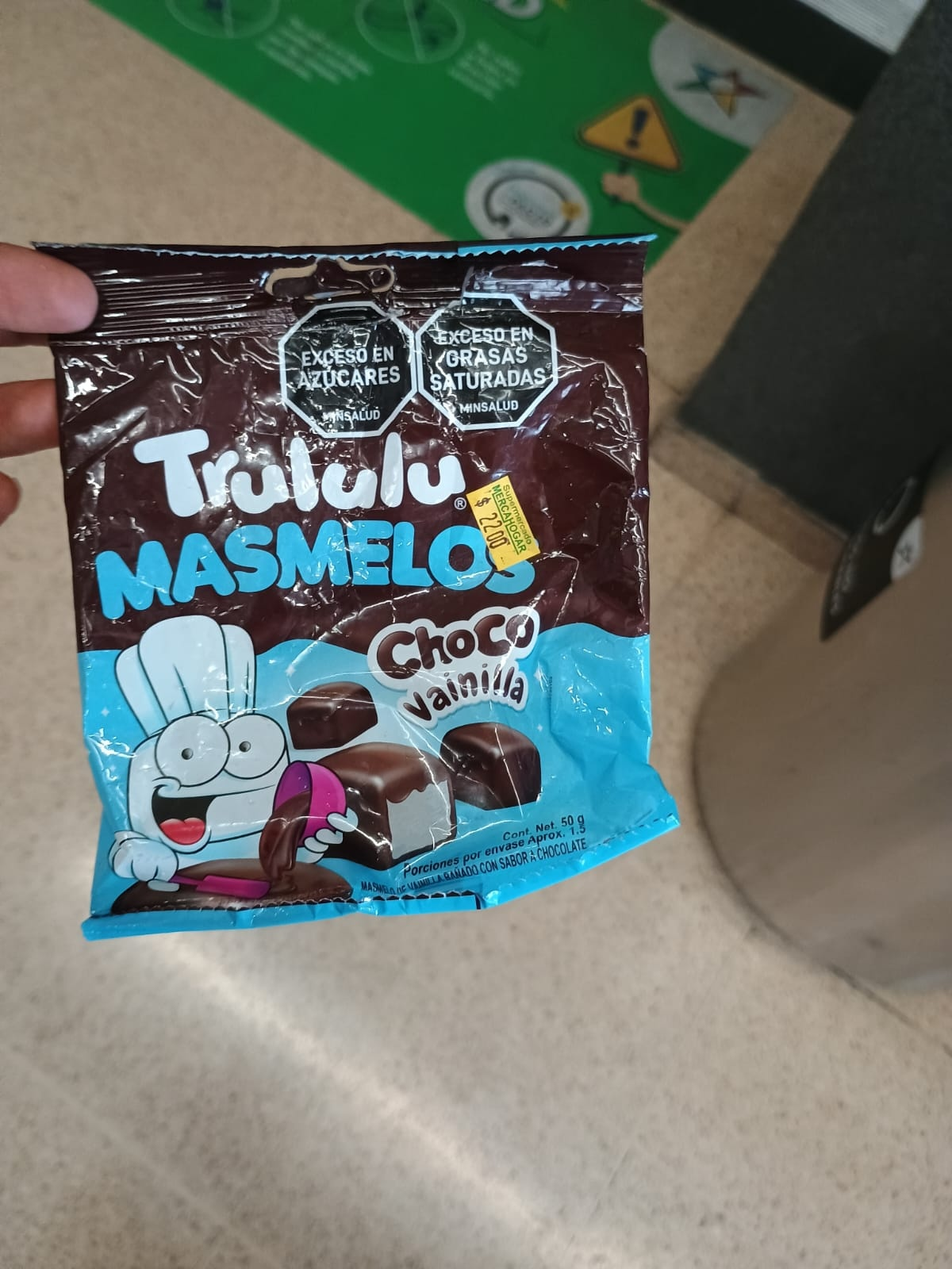Ordinario: (35, 234, 685, 945)
